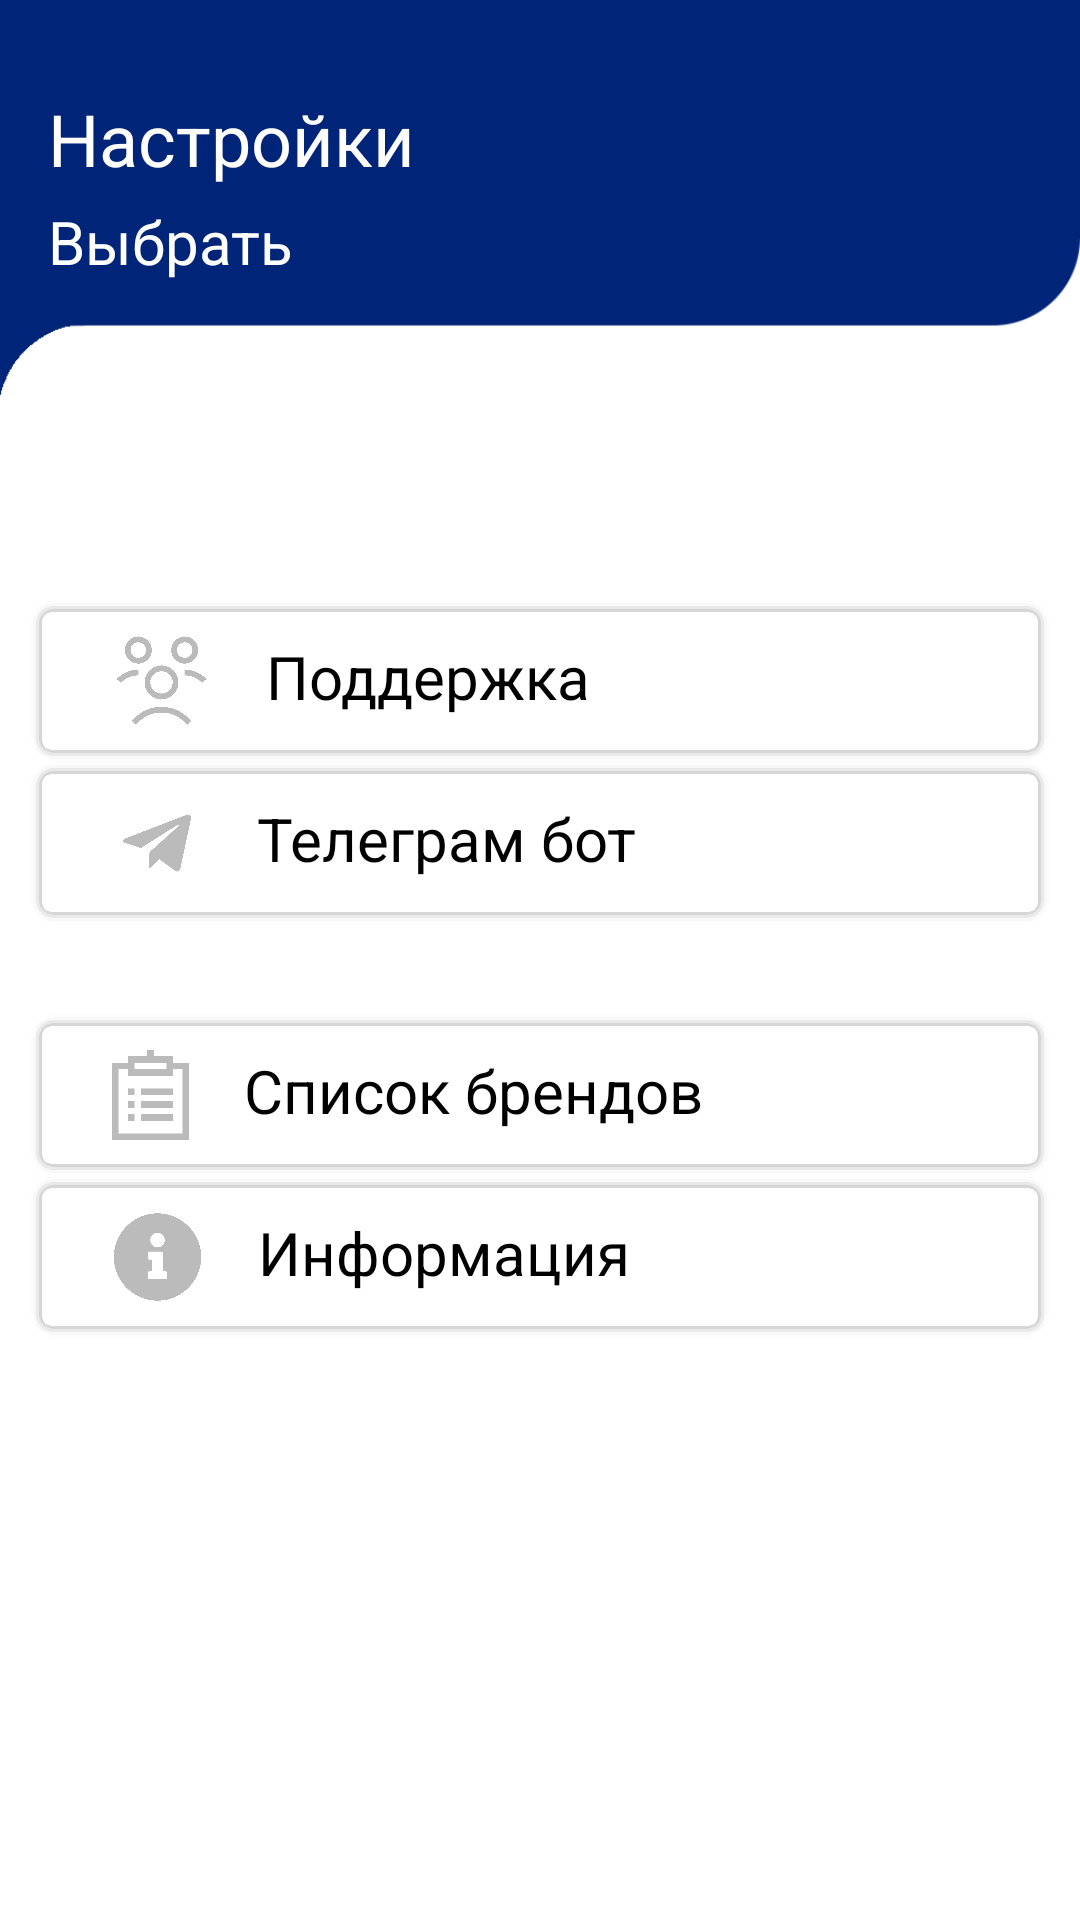

Where to tap for icons on this 1080px x 1920px app screen, as point (x, y):
community: point (161, 680)
list: point (150, 1095)
